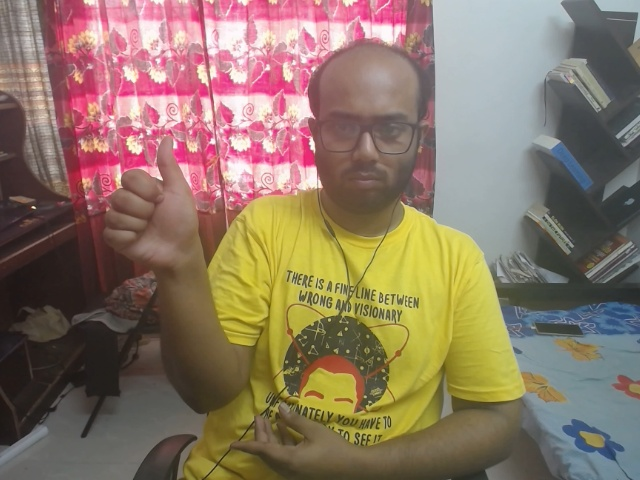six: (88, 117, 232, 286)
